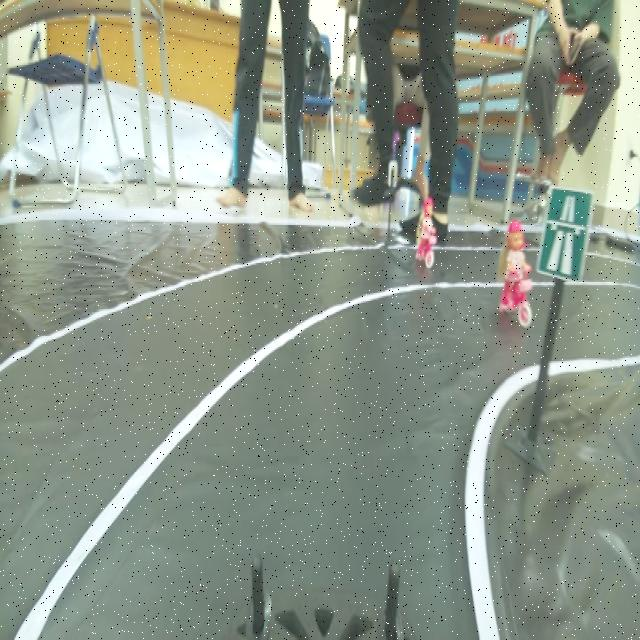highway_entry: (542, 170, 588, 289)
pedestrian: (491, 218, 534, 329), (407, 196, 441, 268)
